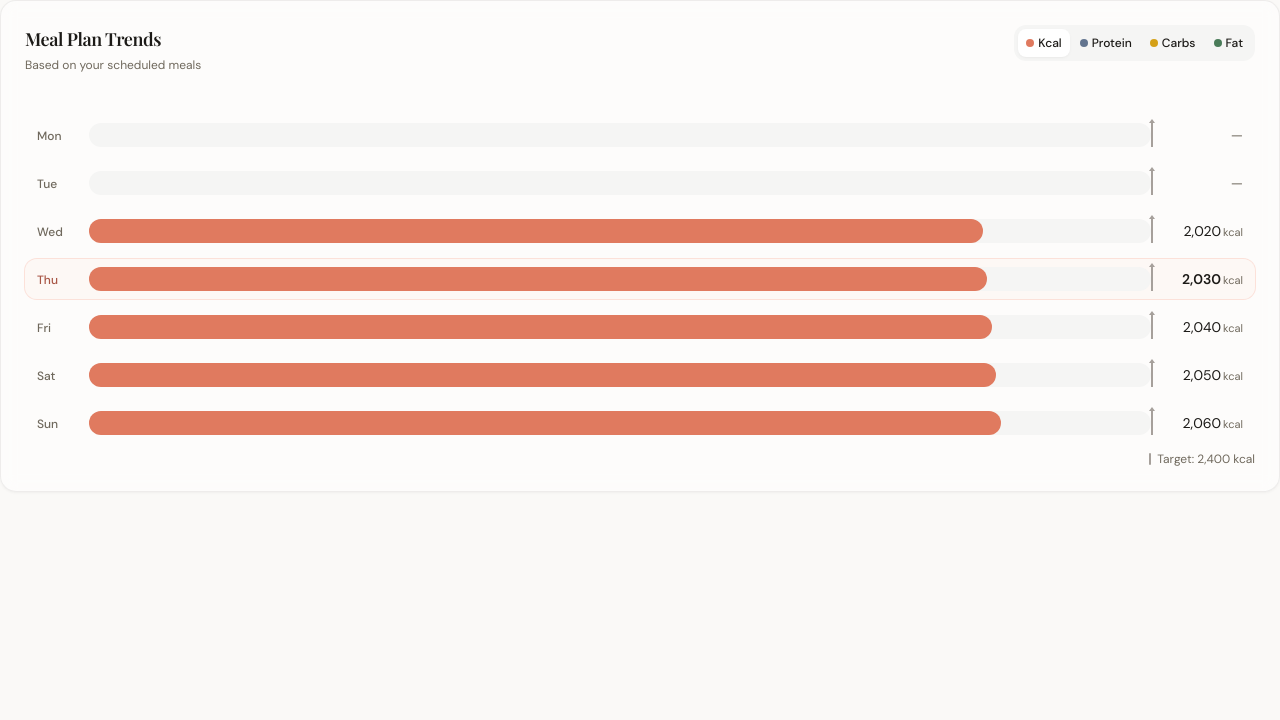
Test: WeeklyMacroChart › offers Calories, Protein, Carbs, Fat toggles with pressed state
Click the button "Protein" at (1106, 43), box [1072,29,1140,57]
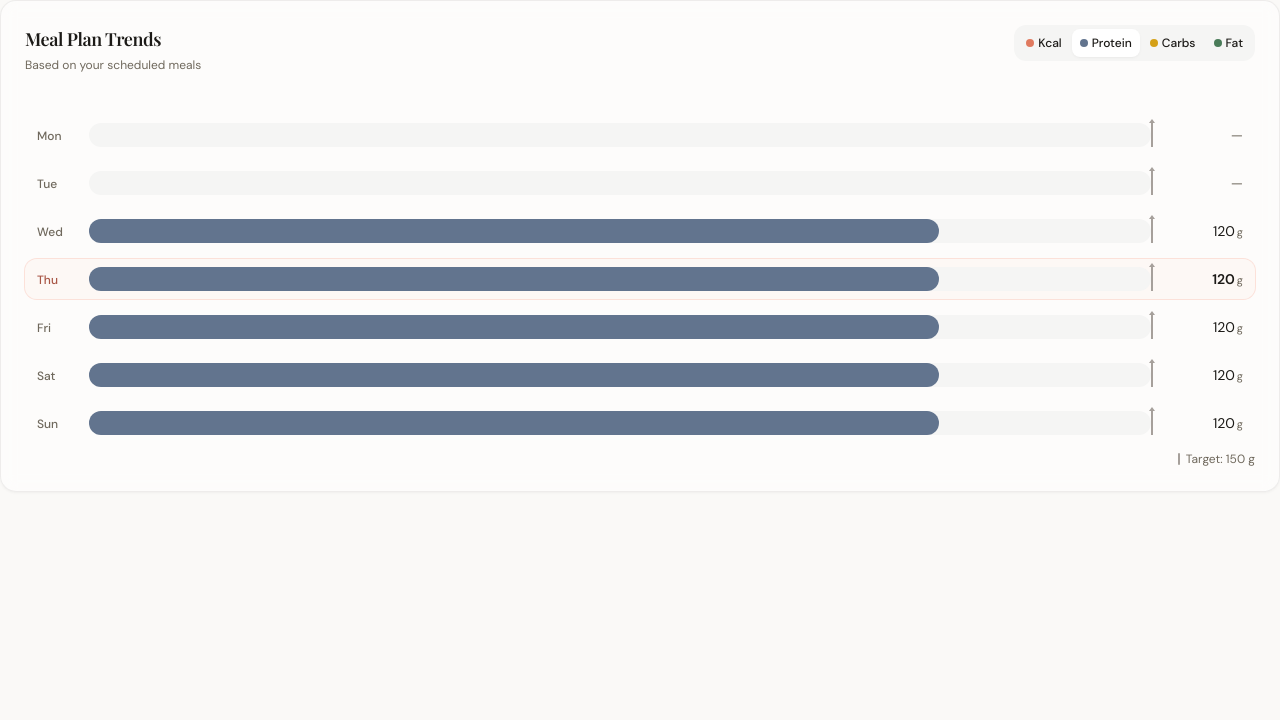
Result: the text "Target: 150 g" is shown at [1186,451,1255,467]
